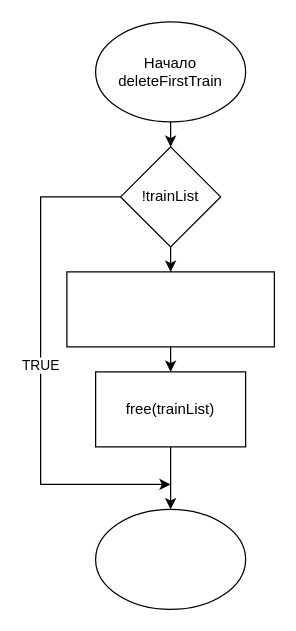
Some shapes in this 296 by 631 pixel diagram are drawn without their labels. Here are the shapes that lost their labels. From the top down, the centre of each, then its label:
the point at 170,309: newFirst = trainList->next
the point at 170,558: Конец
